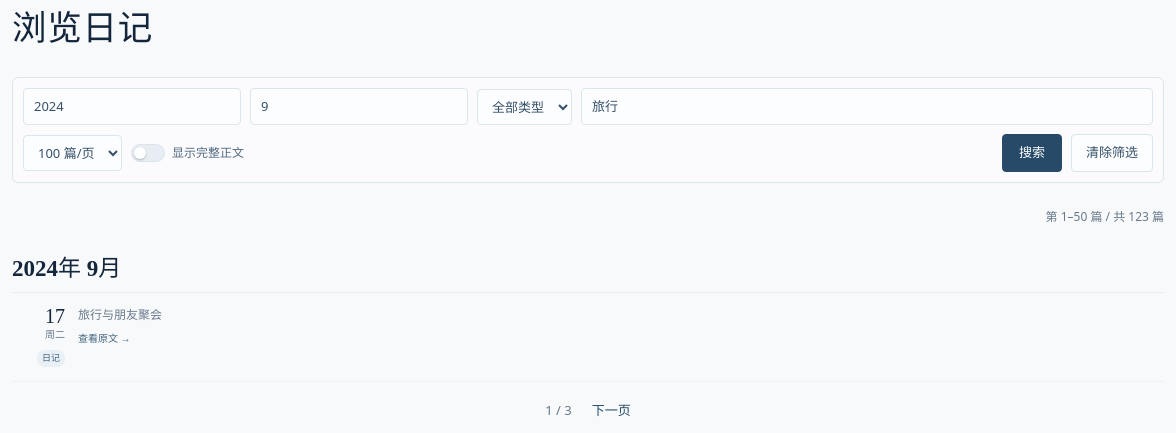
Test: 浏览页分页与筛选 › 清除筛选按钮清空全部查询参数并回到未筛选列表
Expected: the text "旅行与朋友聚会" is shown, [78,306,162,323]
What coordinates should you click on to do the following:
click the button "清除筛选"
I would click on:
 (1112, 153)
Its box is [1071,134,1153,172].
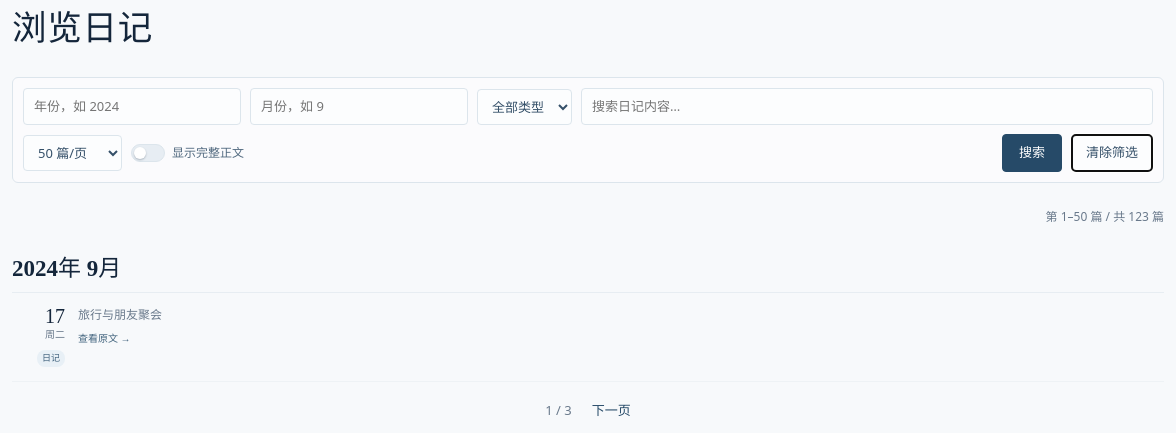
Now the field named "year" is empty, box [23,88,241,125]
